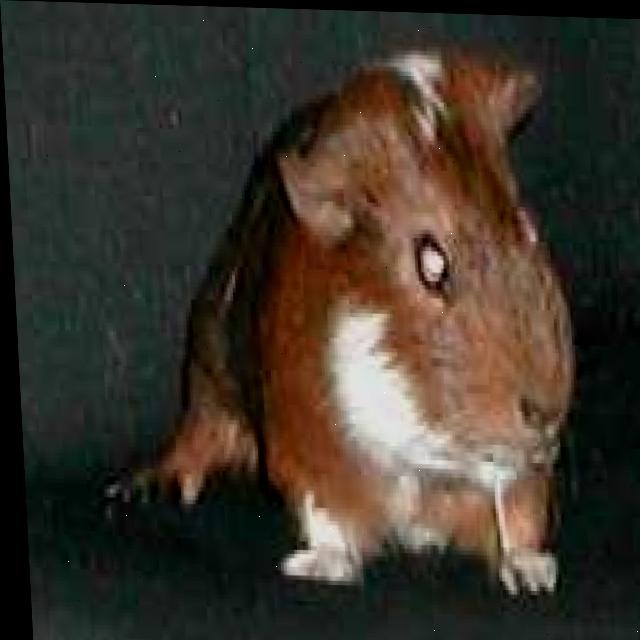guinea pig: (84, 45, 582, 593)
